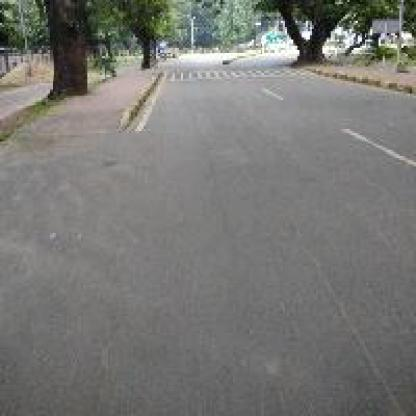Speed Bump: (162, 61, 318, 88)
